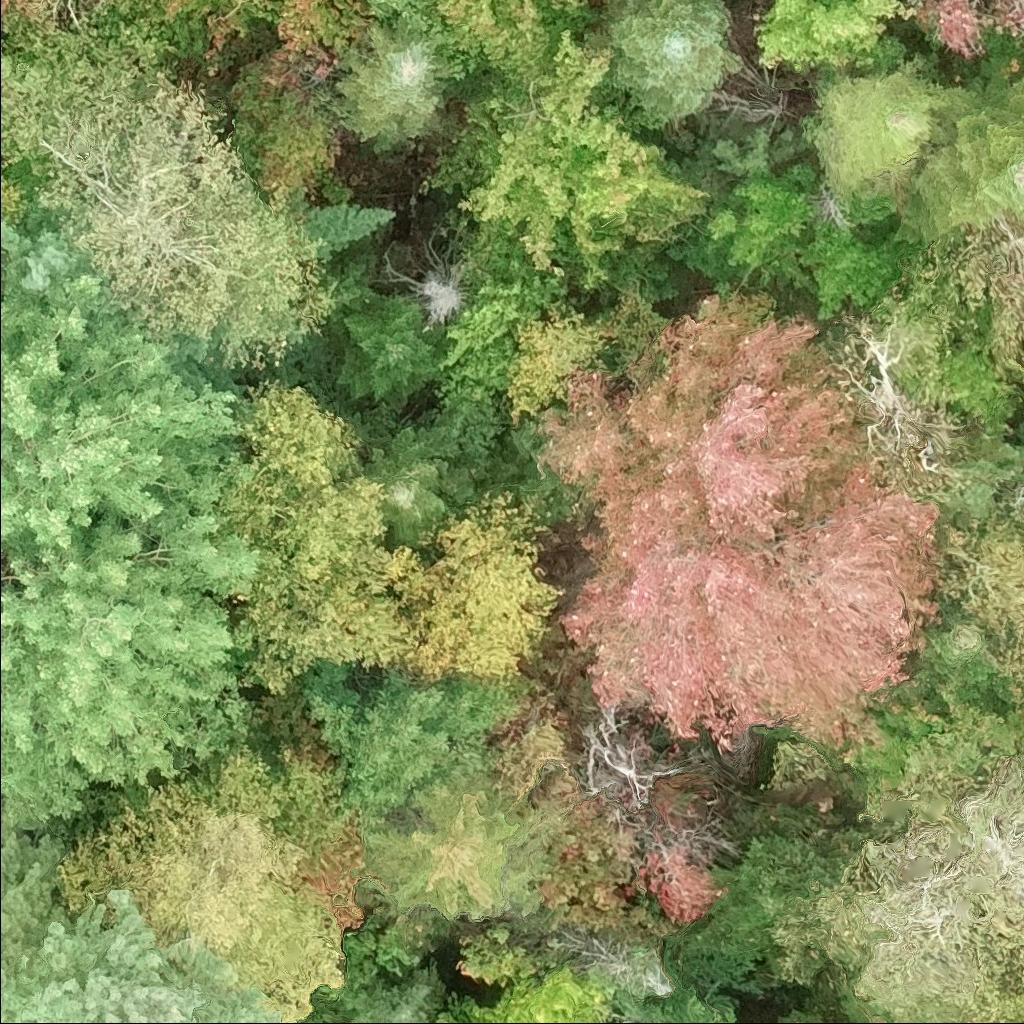crown: (542, 291, 941, 754), (0, 257, 264, 829), (0, 39, 336, 366), (224, 379, 562, 694), (50, 746, 347, 1023), (780, 752, 1023, 1023), (462, 31, 706, 296), (0, 815, 280, 1023), (811, 55, 975, 207), (894, 82, 1023, 247), (331, 13, 452, 159), (434, 929, 608, 1023), (605, 0, 744, 116), (361, 424, 478, 553), (509, 305, 625, 424), (948, 525, 1023, 684), (754, 0, 914, 71), (340, 288, 439, 400), (956, 216, 1023, 366), (793, 226, 895, 317), (714, 181, 810, 274), (920, 0, 1023, 57), (444, 0, 562, 44), (407, 257, 470, 331), (0, 178, 22, 221), (371, 0, 417, 20), (688, 1017, 748, 1023)
